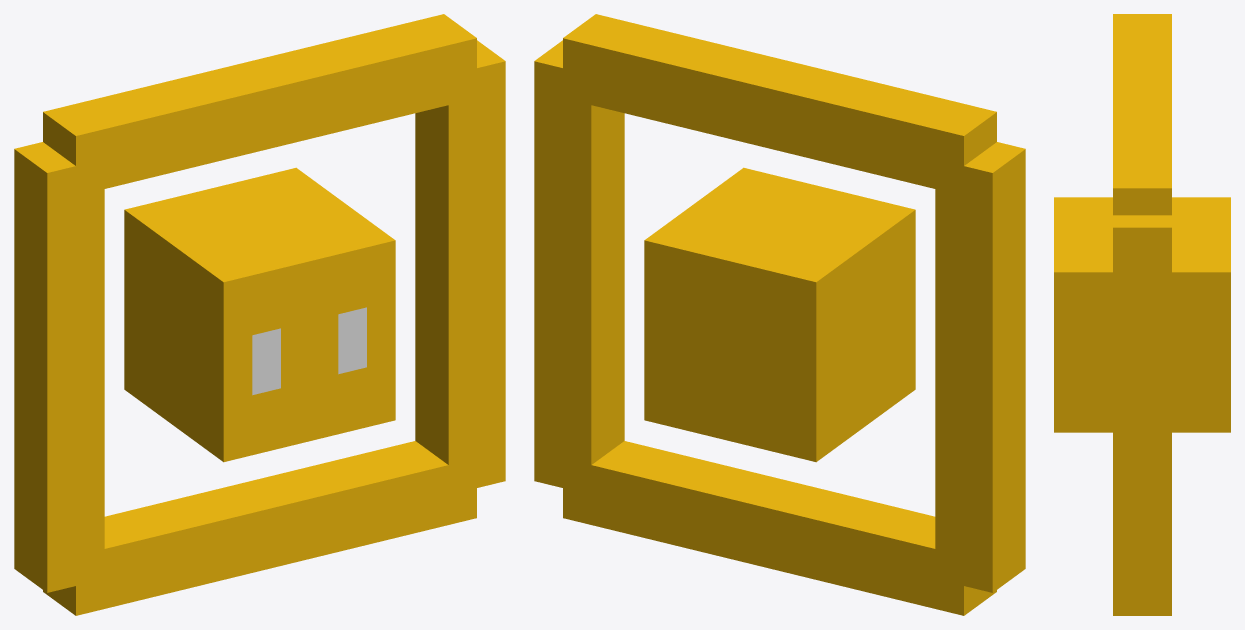
Rendered from data_yellow.fbx.
3 renders of one model, left to right at view 1: azimuth 30°, elevation 25°; view 2: azimuth 150°, elevation 25°; view 3: azimuth 270°, elevation 25°, orthographic. The views are drawn at different scales.
Parts seen in each view (by area): view 1: data_yellow; view 2: data_yellow; view 3: data_yellow.
Boxes of the visible parts, <box> form: data_yellow: <box>14,14,505,615</box>; data_yellow: <box>534,14,1025,615</box>; data_yellow: <box>1054,14,1230,615</box>.
Bounding box in the file's own units: 1.6 × 1.6 × 0.6.
1 material, 1 textured.
